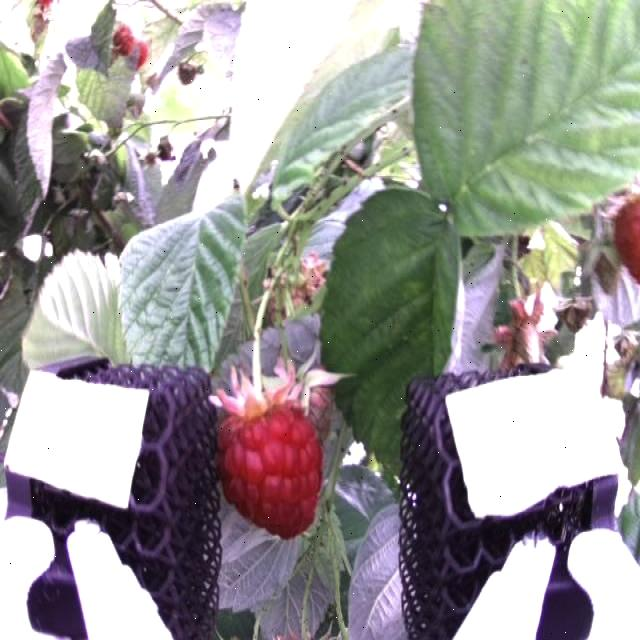Riped berries: (215, 377, 332, 536), (610, 183, 640, 288)
